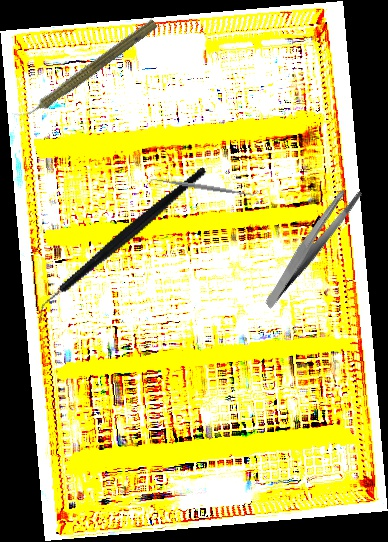Chopper: (6, 166, 236, 325)
Dressing Forceps: (239, 181, 384, 310)
Handpiece: (12, 13, 160, 129)
Spatula Surgical: (148, 172, 260, 202)
